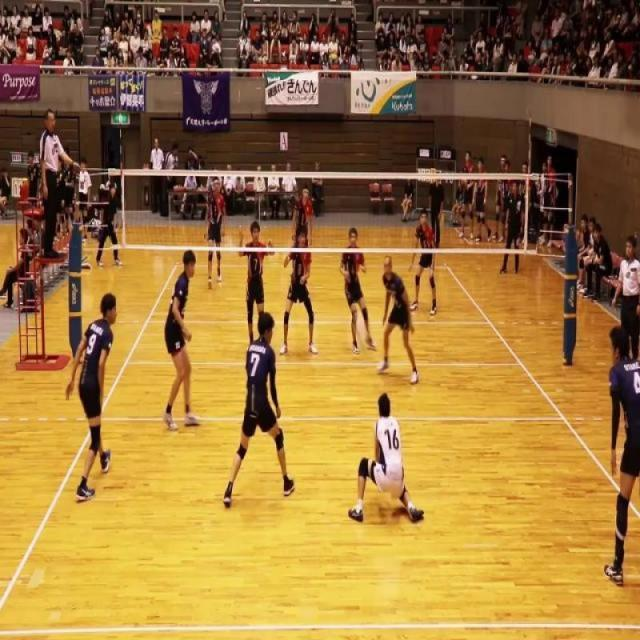volleyball: (355, 324, 368, 351)
